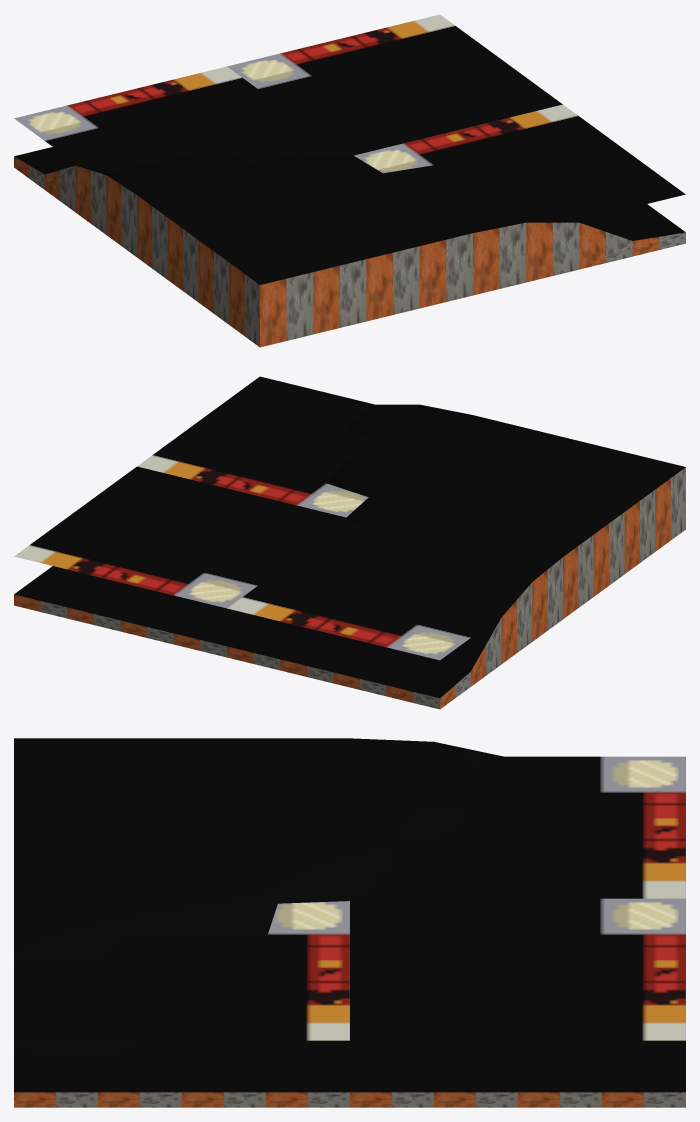
File: SM_shore_corner_out.fbx
3 renders of one model, top to bottom at view 1: azimuth 30°, elevation 25°; view 2: azimuth 150°, elevation 25°; view 3: azimuth 270°, elevation 25°, orthographic. The views are drawn at different scales.
Parts seen in each view (by area): view 1: shore_corner_out; view 2: shore_corner_out; view 3: shore_corner_out.
Boxes of the visible parts, left/top/right/bottom form: shore_corner_out: left=14, top=14, right=685, bottom=347; shore_corner_out: left=14, top=376, right=685, bottom=709; shore_corner_out: left=14, top=738, right=685, bottom=1107.
Size of the model in its own units: 4 by 0.56 by 4.
